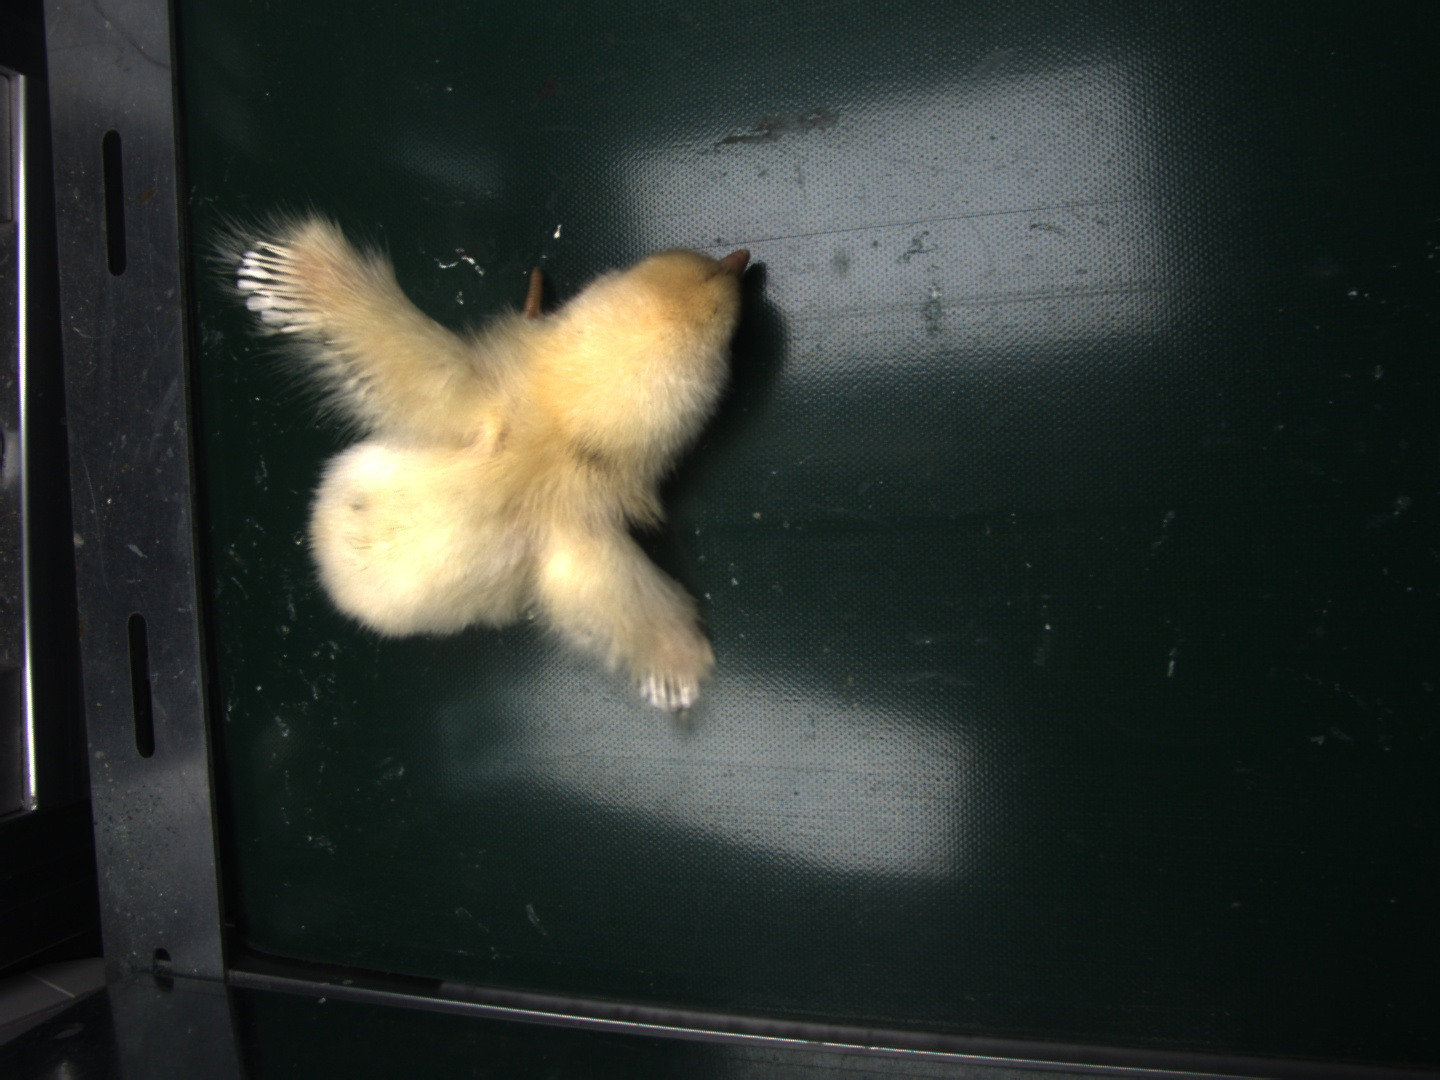male: (232, 225, 317, 337)
